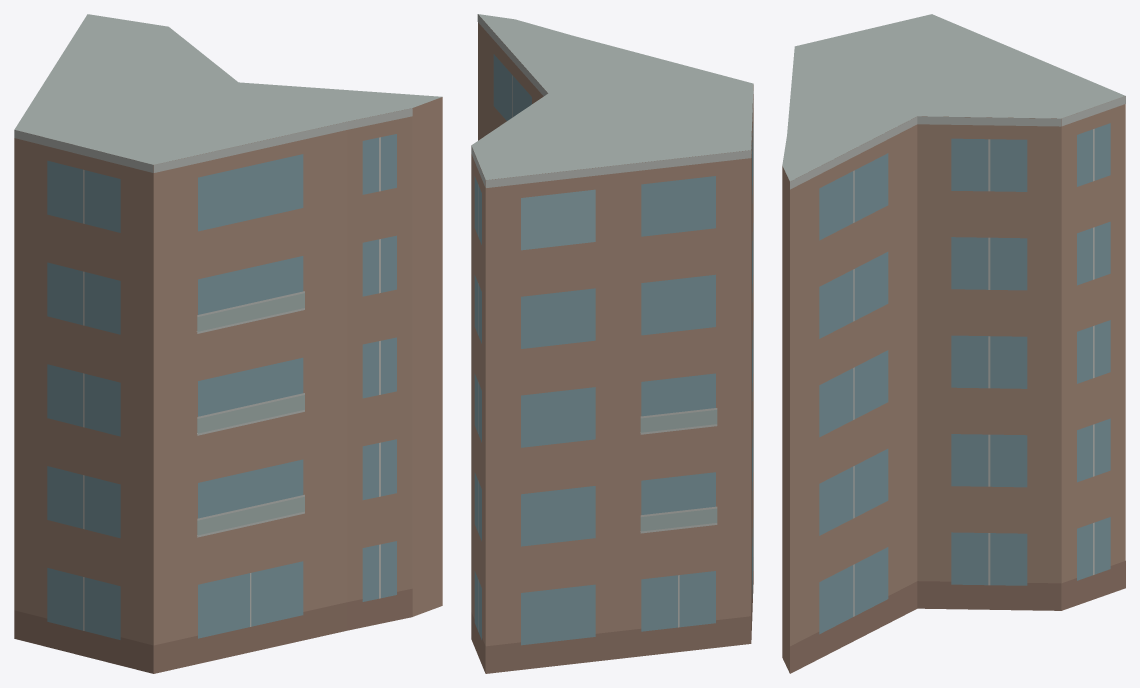
Rendered from survey-upis-33046151.glb.
3 renders of one model, left to right at view 1: azimuth 30°, elevation 25°; view 2: azimuth 150°, elevation 25°; view 3: azimuth 270°, elevation 25°, orthographic. The views are drawn at different scales.
Visible parts, largest first — view 1: survey-upis-33046151.tmp; view 2: survey-upis-33046151.tmp; view 3: survey-upis-33046151.tmp.
Part boxes in pixels (bbox=[...]): survey-upis-33046151.tmp: bbox=[14, 14, 442, 673]; survey-upis-33046151.tmp: bbox=[471, 14, 753, 673]; survey-upis-33046151.tmp: bbox=[782, 14, 1125, 673].
Size of the model in its own units: 10.96 by 15 by 9.49.
